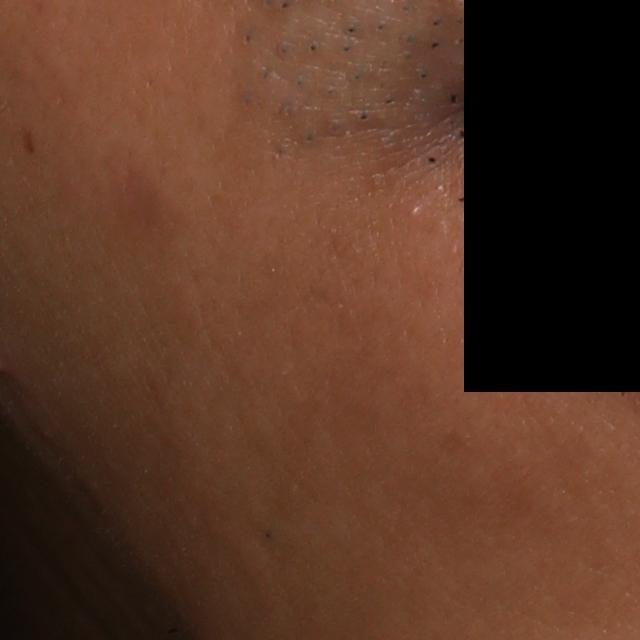comedo: (408, 201, 426, 218)
nevus: (18, 125, 38, 157)
